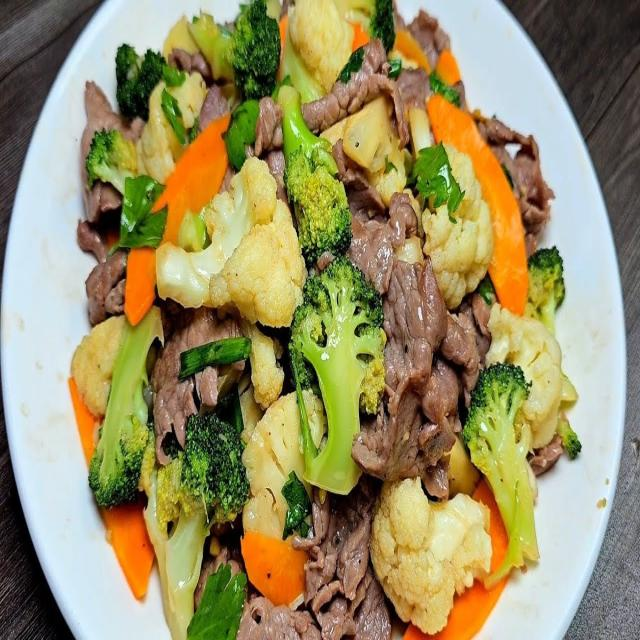bo xao: (68, 0, 581, 639)
